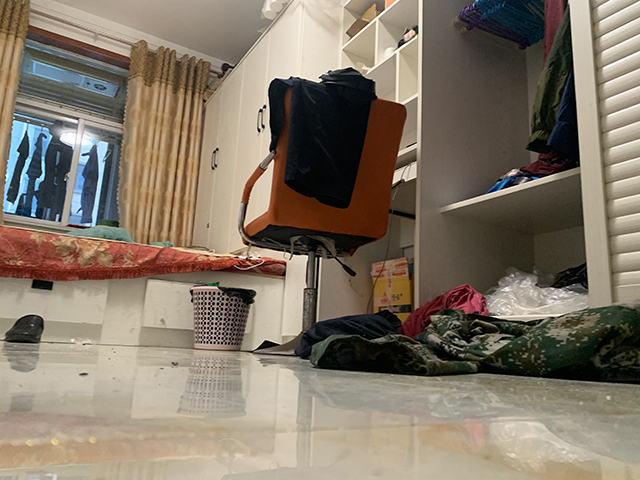bed: (1, 224, 288, 348)
cabinet: (417, 139, 640, 308)
curtain: (122, 40, 212, 245)
stool: (233, 71, 406, 352)
trashcan: (190, 284, 257, 351)
